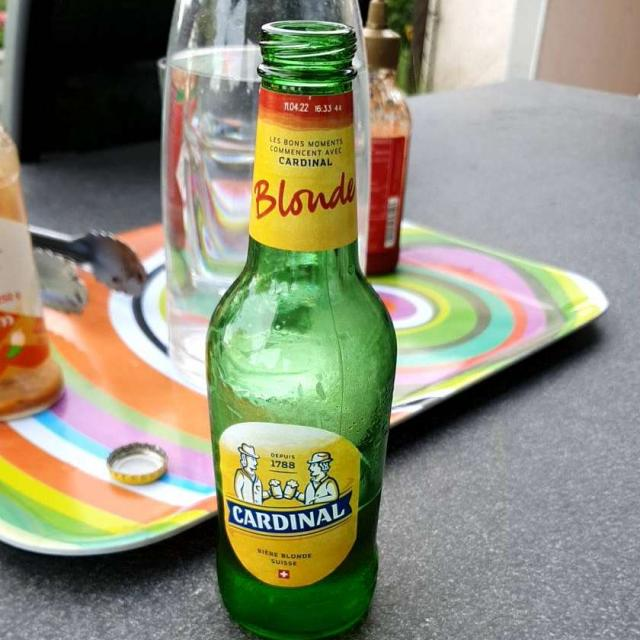beer: (211, 59, 387, 624)
